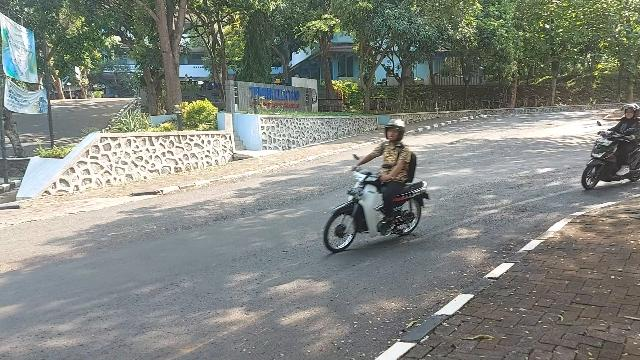helm: (387, 121, 406, 142), (623, 105, 640, 120)
motor: (325, 155, 431, 254), (583, 122, 640, 191)
